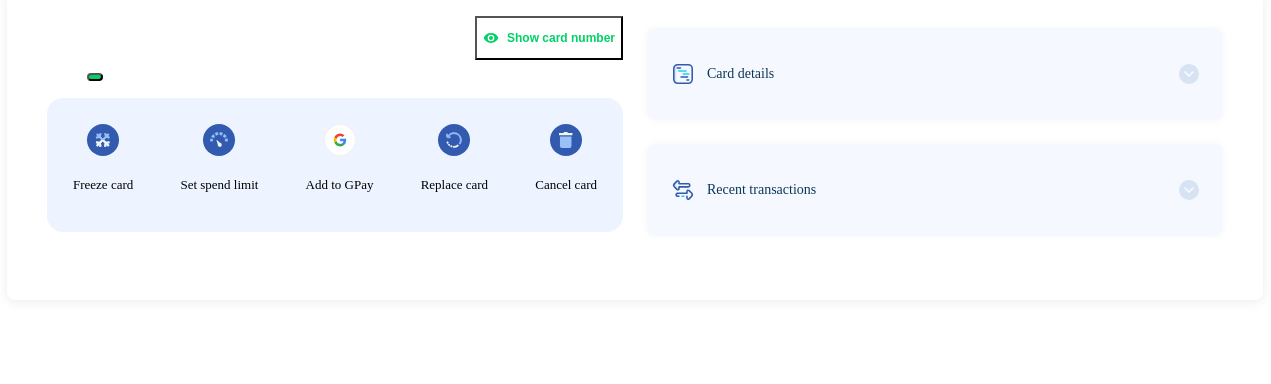
it: MyDebitCards.vue › displays "No data" when there are no transactions
Click the picture with class "arrow-icon" in the row of "Recent transactions": (1189, 190) left=1179, top=180, right=1199, bottom=200
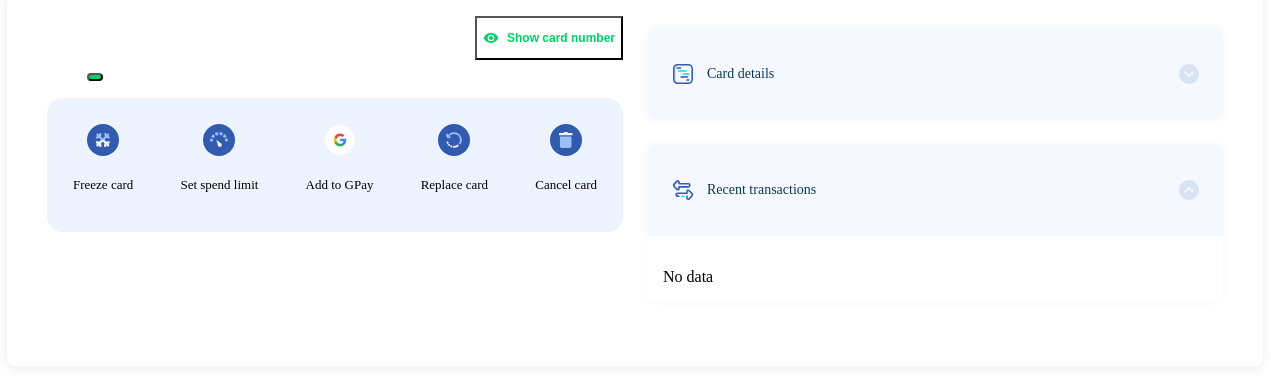
Result: the text with class "no-data" reads "No data" at left=663, top=268, right=713, bottom=285
